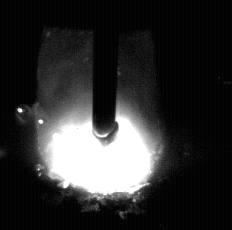arame: (94, 0, 118, 145)
poca: (37, 0, 165, 230)
